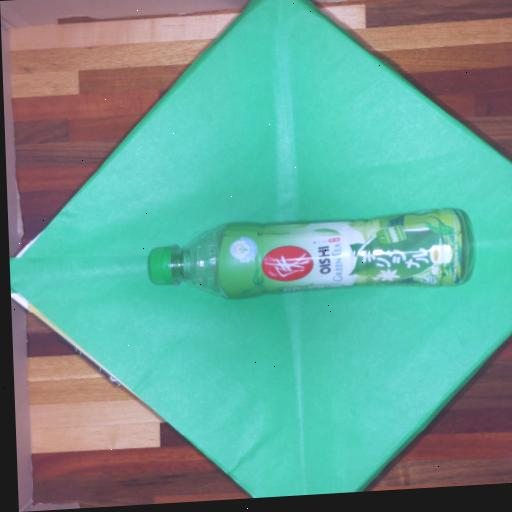bottle: (149, 209, 470, 297)
